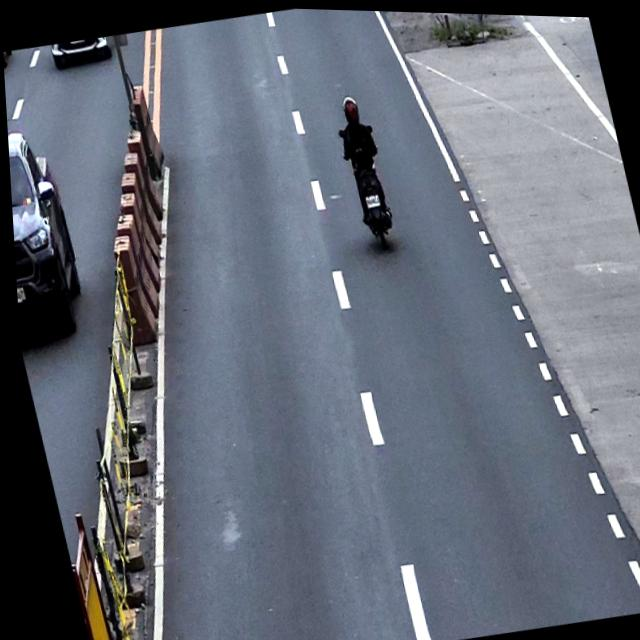Car: (6, 124, 88, 338)
License-Plate: (361, 190, 379, 207), (13, 285, 22, 305)
Motorcycle: (334, 119, 398, 250)
